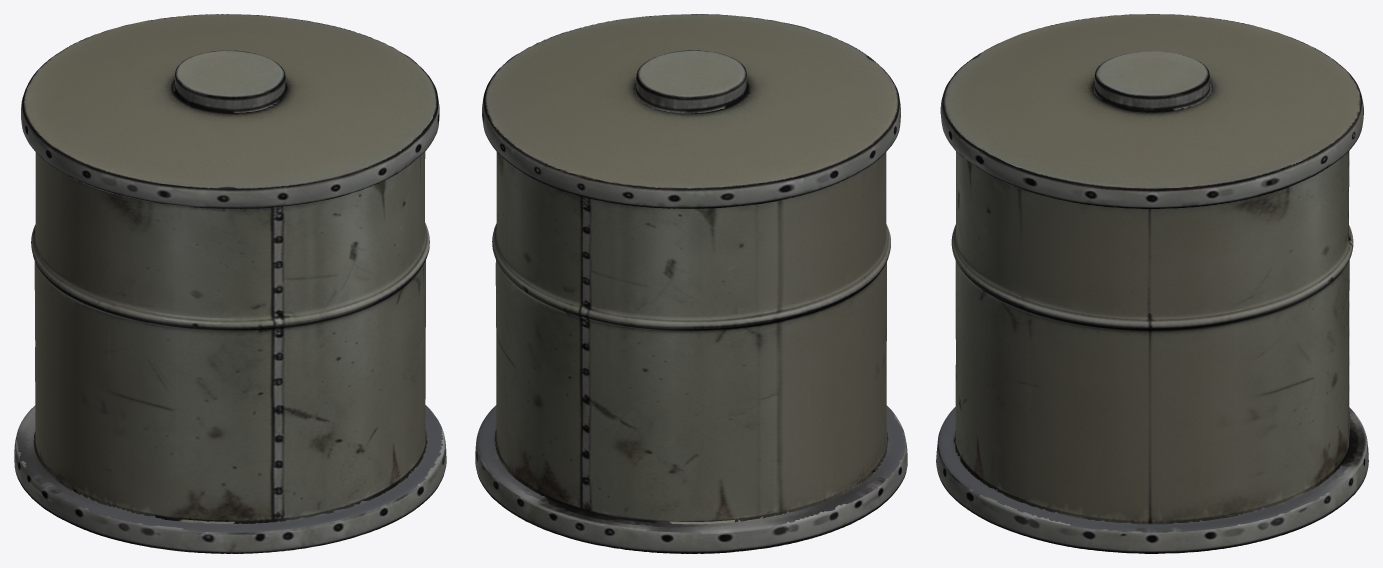
File: feature-water-tank.glb
The picture shows the model from 3 angles, left to right: view 1: azimuth 30°, elevation 25°; view 2: azimuth 150°, elevation 25°; view 3: azimuth 270°, elevation 25°; orthographic projection.
Parts seen in each view (by area): view 1: tmprnth9cu6.ply; view 2: tmprnth9cu6.ply; view 3: tmprnth9cu6.ply.
Part boxes in pixels (x1,y1,x2,y2): tmprnth9cu6.ply: (14, 14, 446, 553); tmprnth9cu6.ply: (475, 14, 907, 553); tmprnth9cu6.ply: (936, 14, 1368, 553).
Size of the model in its own units: 1 by 1 by 1.
Materials: 1 (1 with a texture image).
